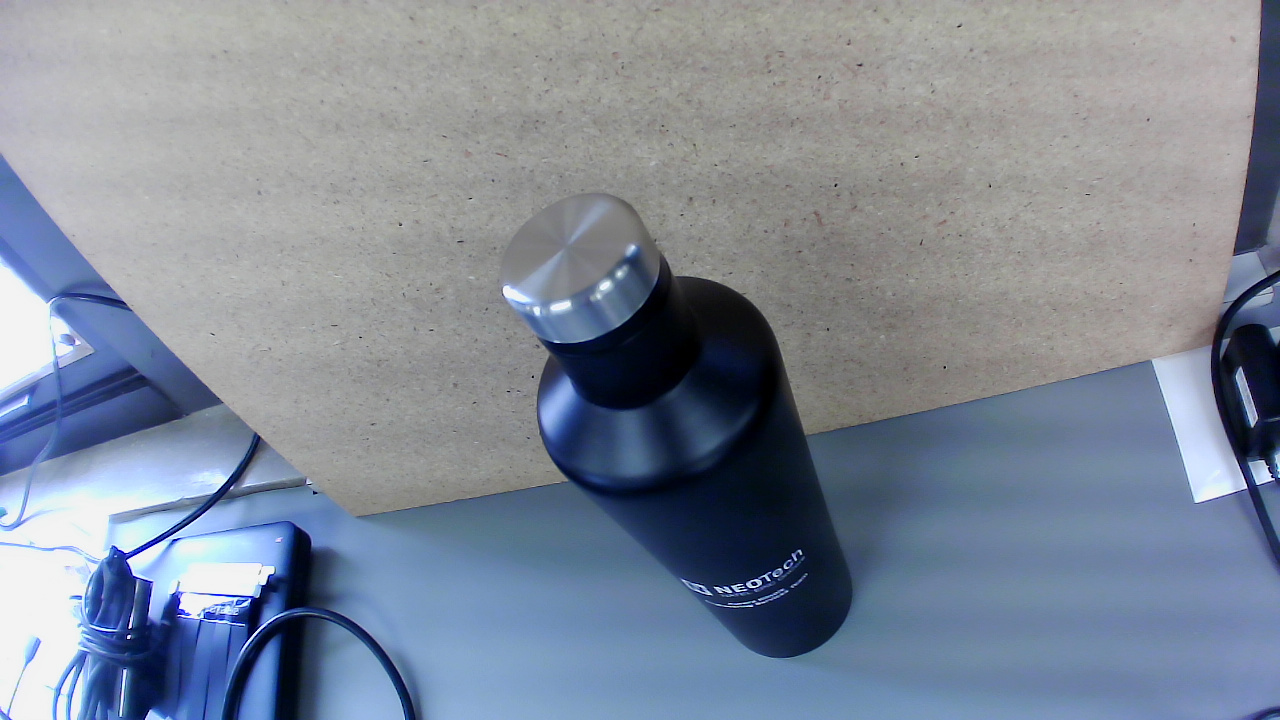neobottle: (485, 184, 887, 674)
